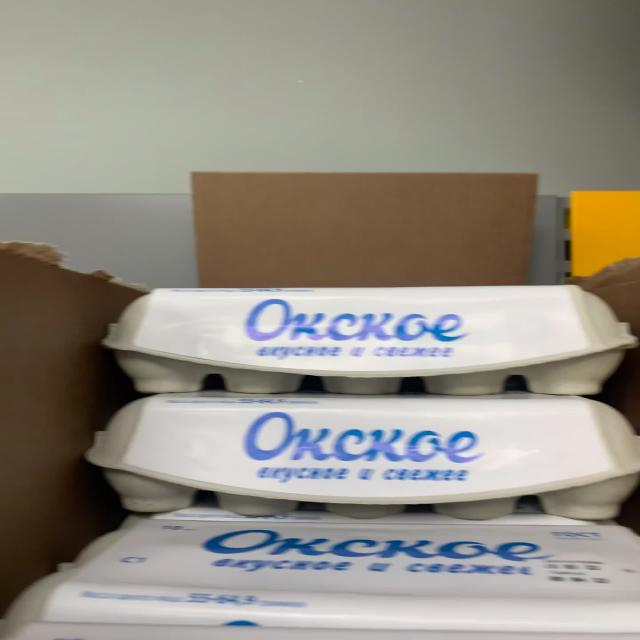egg box: (0, 518, 635, 638), (76, 394, 629, 520), (96, 276, 631, 396)
